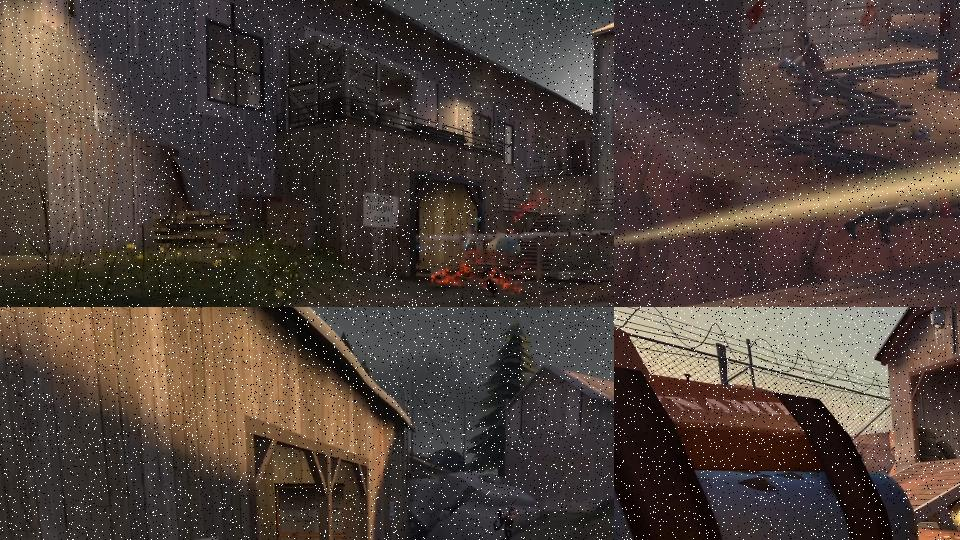Enemy: (784, 33, 836, 129), (492, 506, 518, 540)
